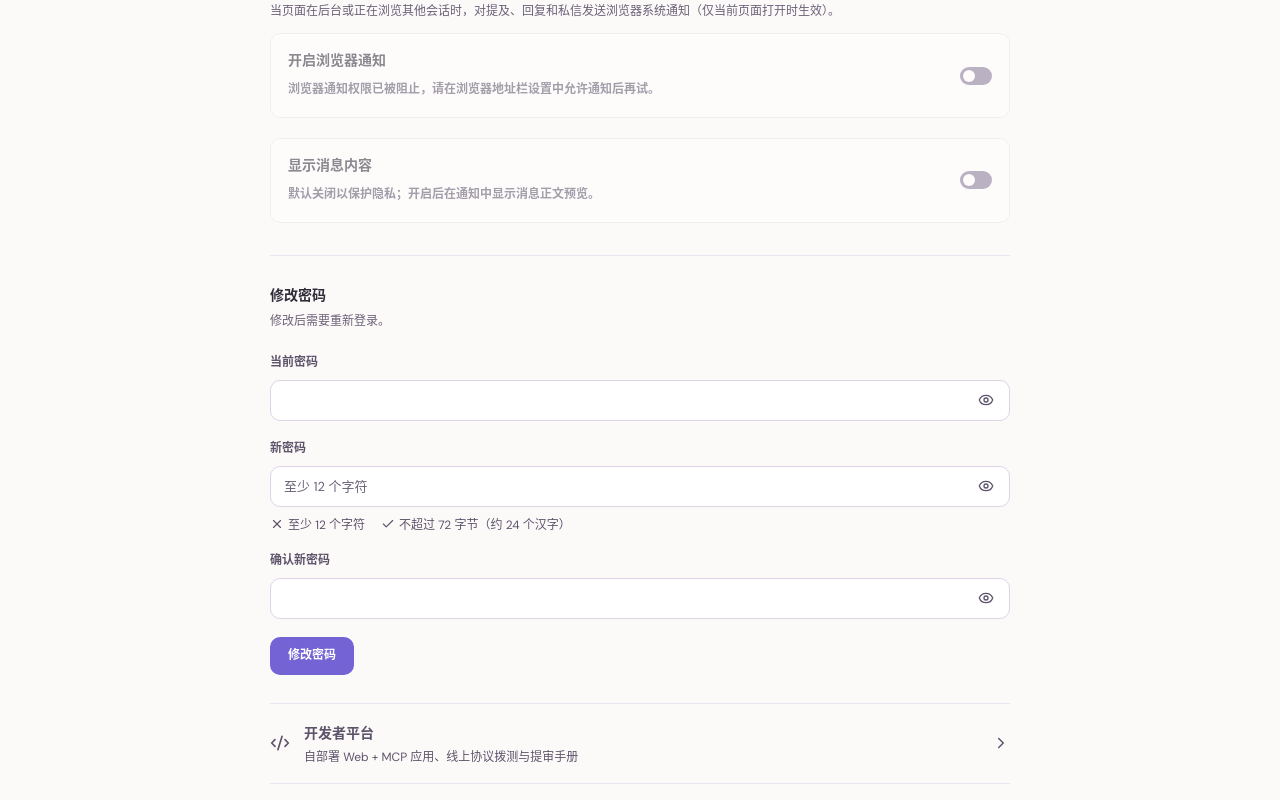
Test: account password settings › blocks invalid password changes locally: example-new-password
(page scrolled)
Type "example-old-password" into the password field named "currentPassword" at (640, 400), box [270,380,1010,421]
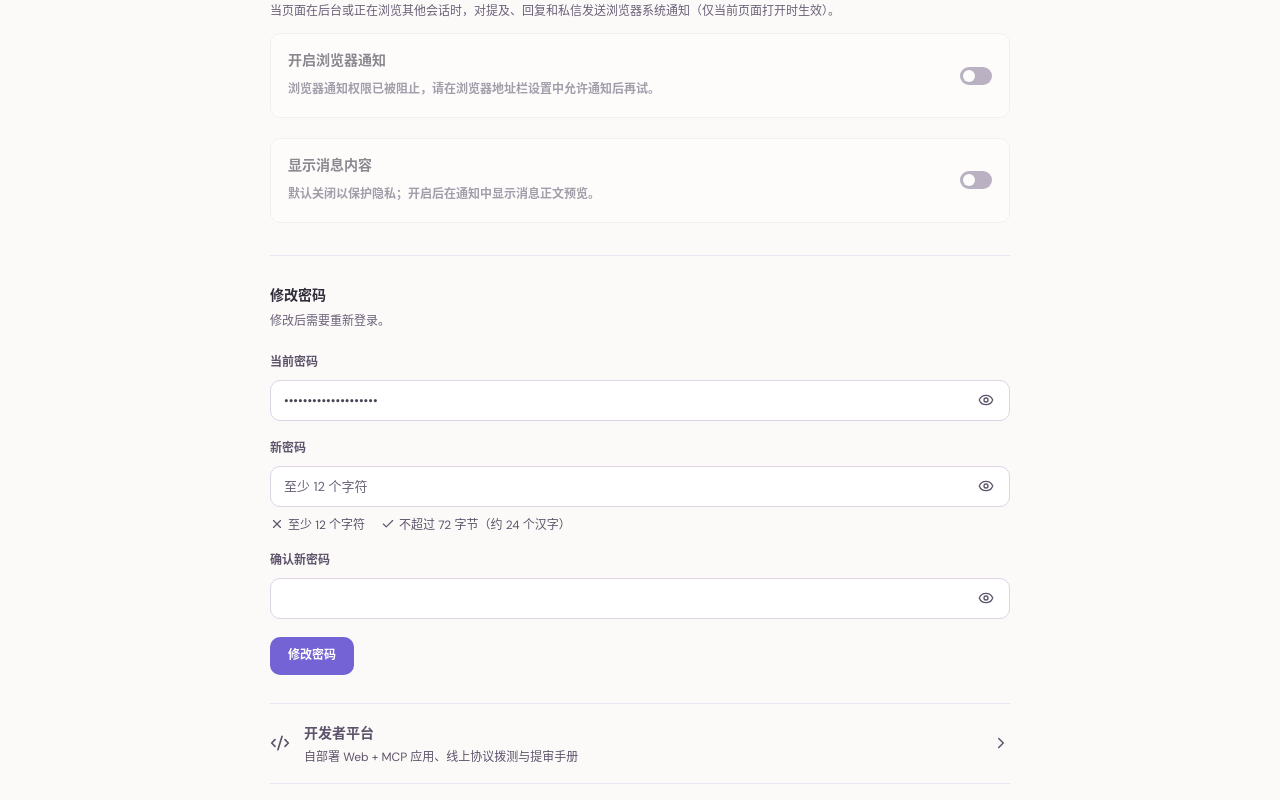
Type "example-new-password" into the password field named "newPassword" at (640, 486), box [270,466,1010,507]
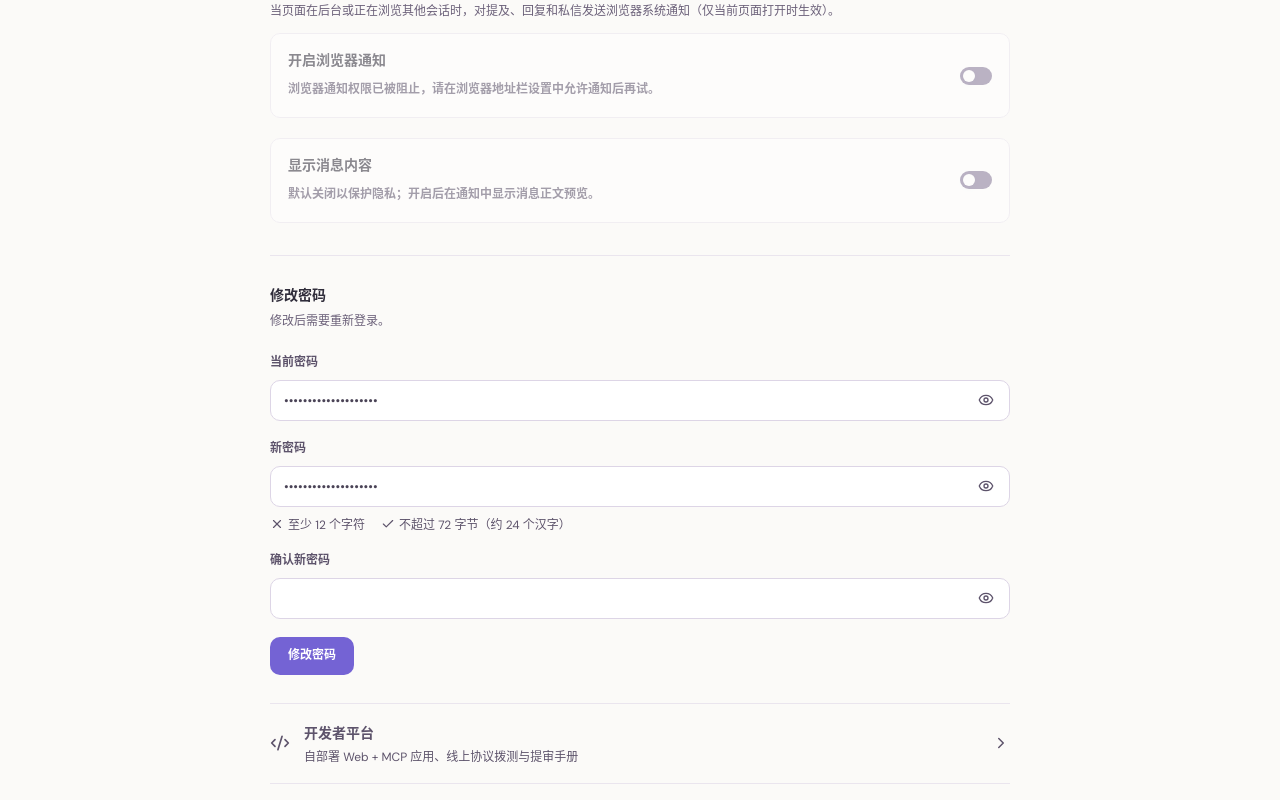
Type "example-other-password" into the password field named "confirmPassword" at (640, 598), box [270,578,1010,619]
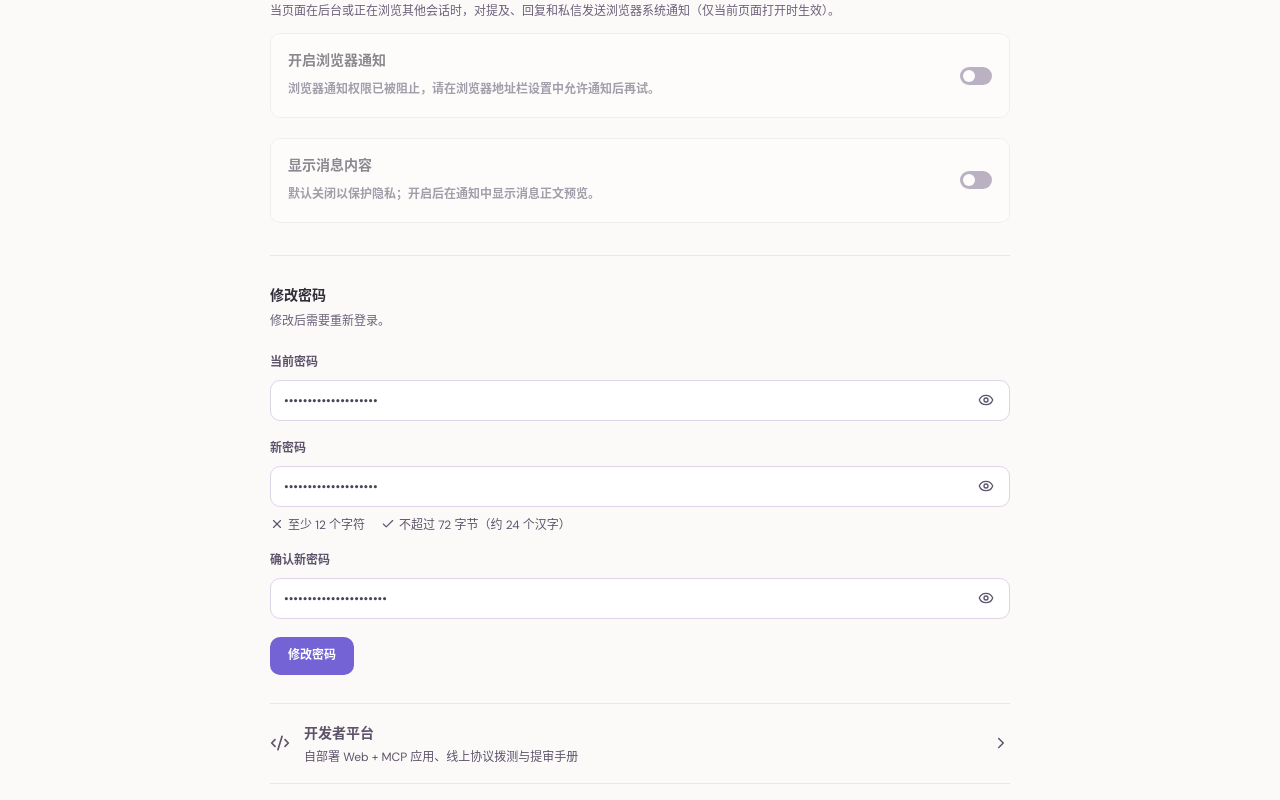
Submit the form, box [270,255,1010,675]
(page scrolled)
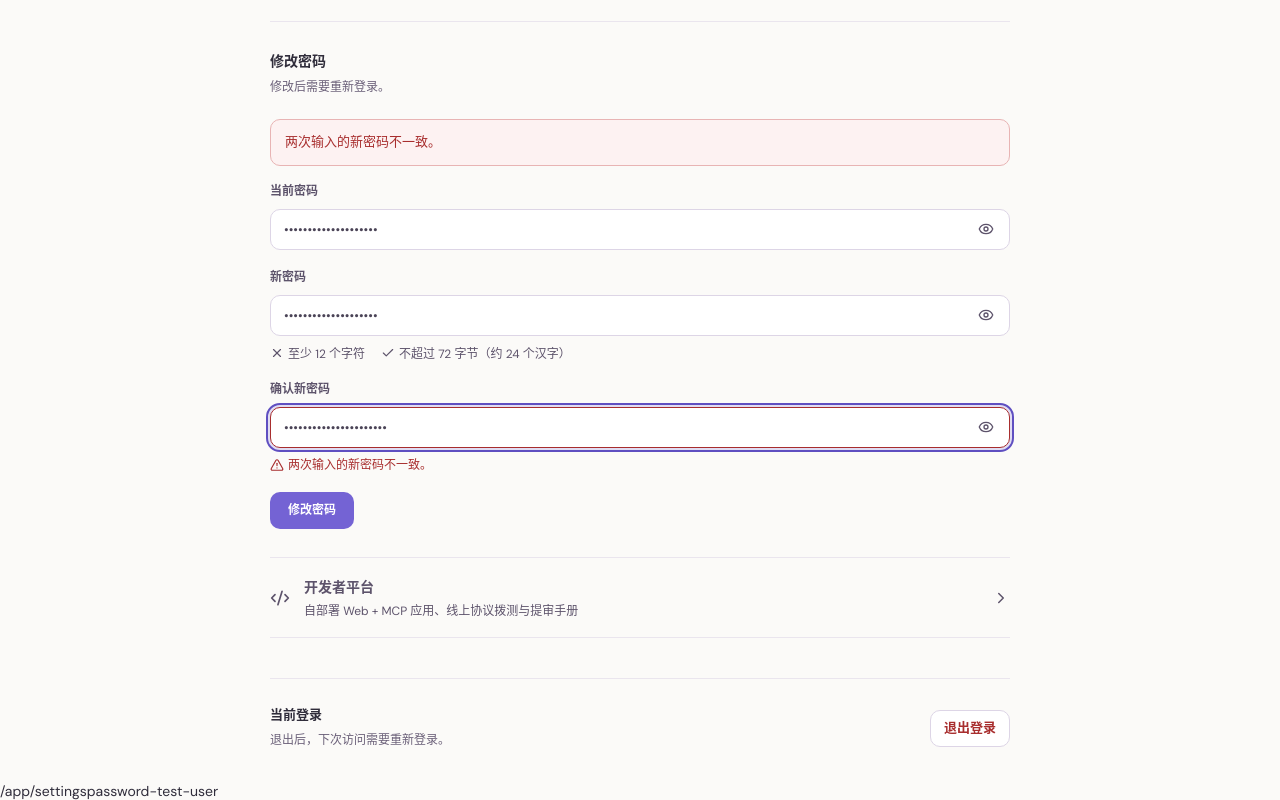
Check: the text "password-test-user" is shown, box [87,782,218,799]
Check: the text "两次输入的新密码不一致。" is shown, box [270,119,1010,166]
